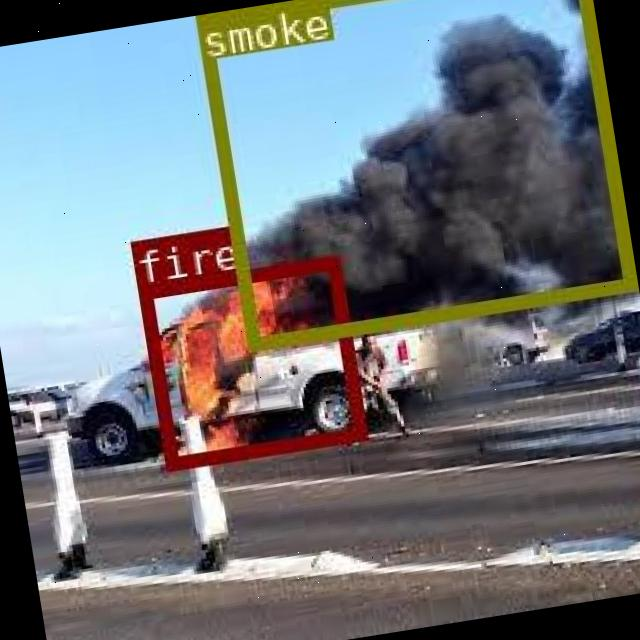fire: (136, 255, 364, 469)
smoke: (196, 0, 633, 347)
